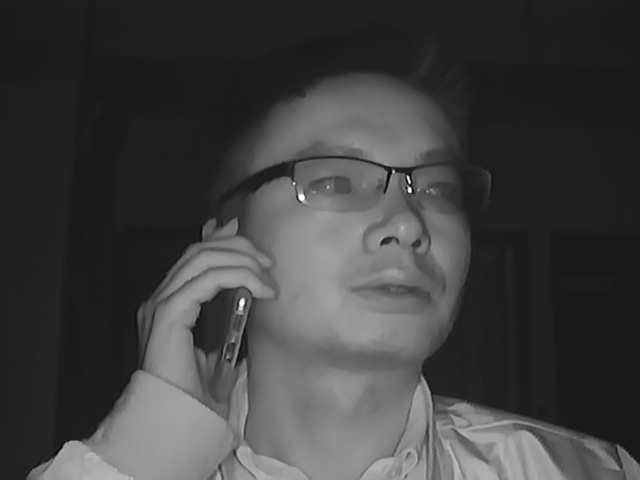hand: (136, 212, 265, 391)
